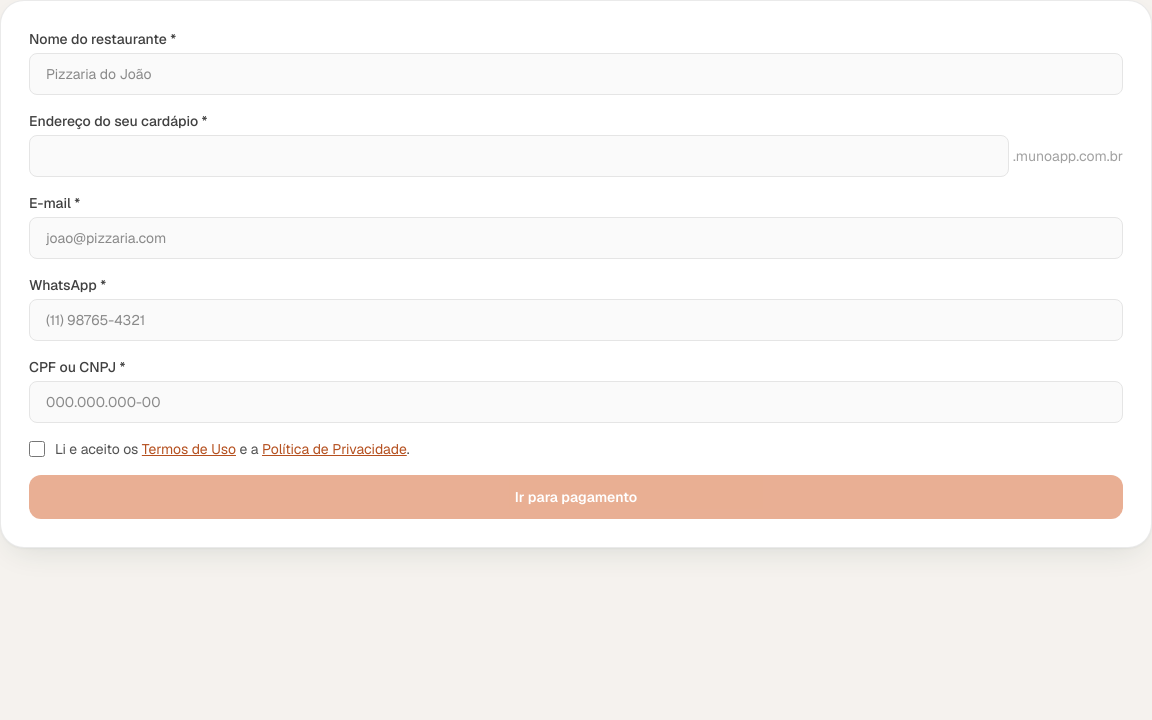
Scenario: FormularioAssinatura › deixa tentar de novo depois de um erro da API
Type "Pizzaria do Ze" into the field labelled "Nome do restaurante *".
click(576, 74); type("Pizzaria do Ze")  # box [29,53,1123,95]
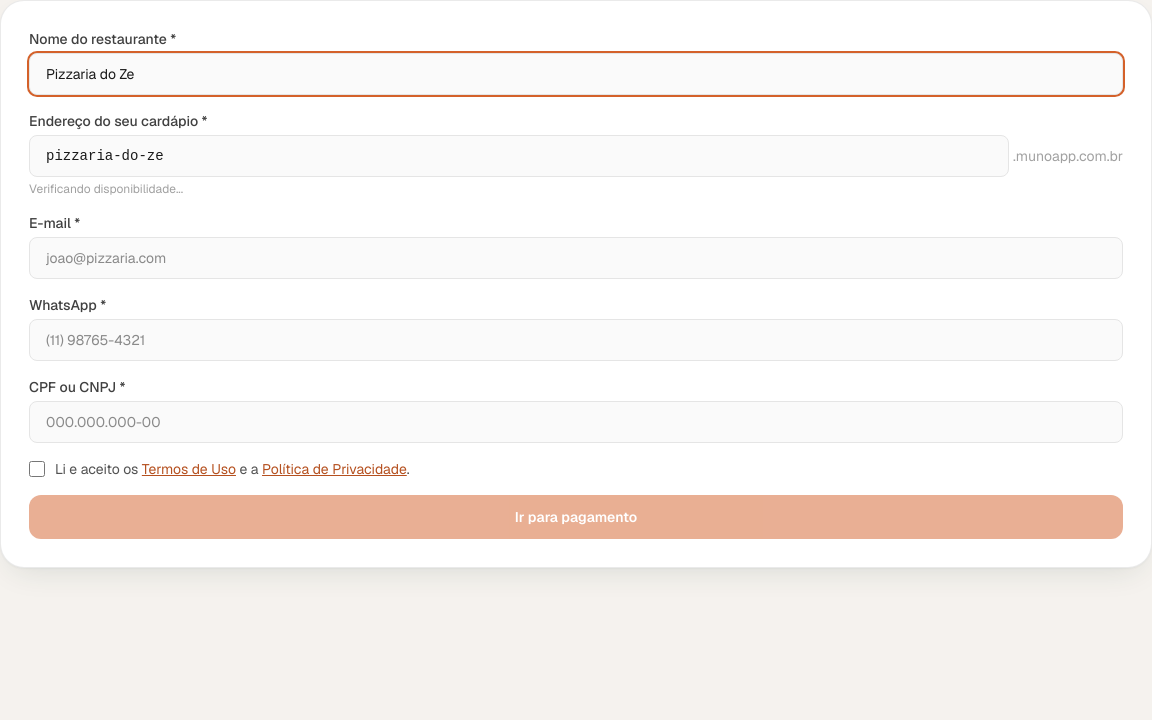
Type "dono@pizzaria.com" into the field labelled "E-mail *".
click(576, 258); type("dono@pizzaria.com")  # box [29,237,1123,279]
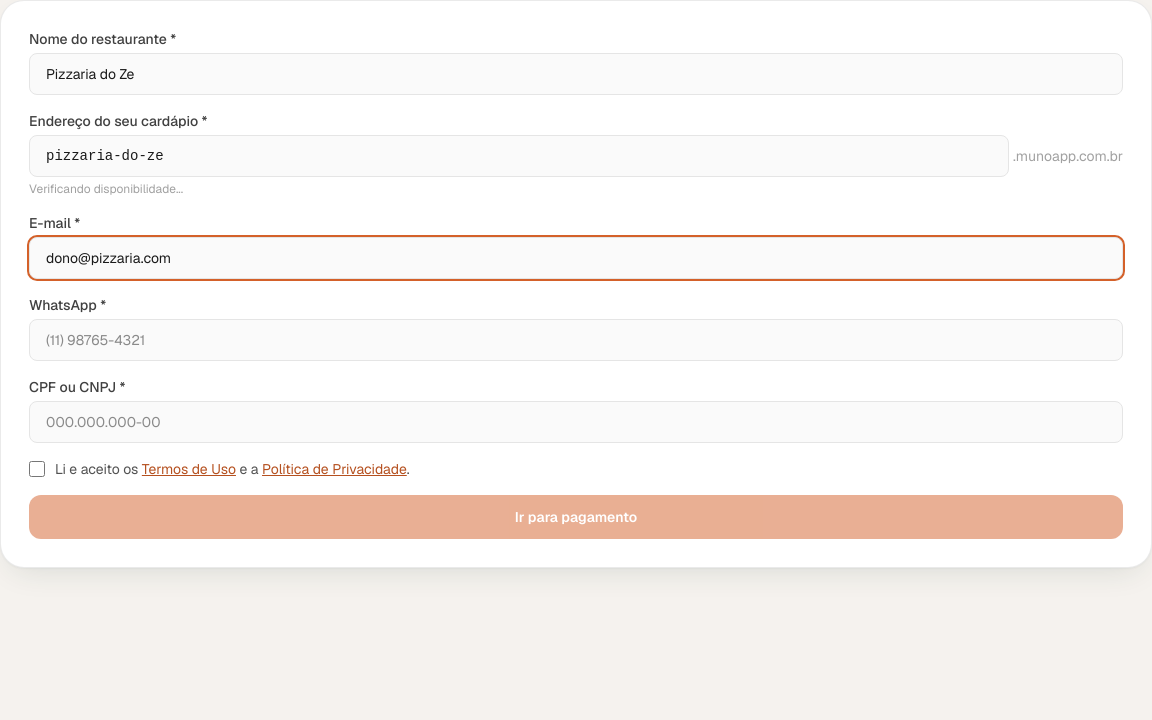
Type "11987654321" into the field labelled "WhatsApp *".
click(576, 340); type("11987654321")  # box [29,319,1123,361]
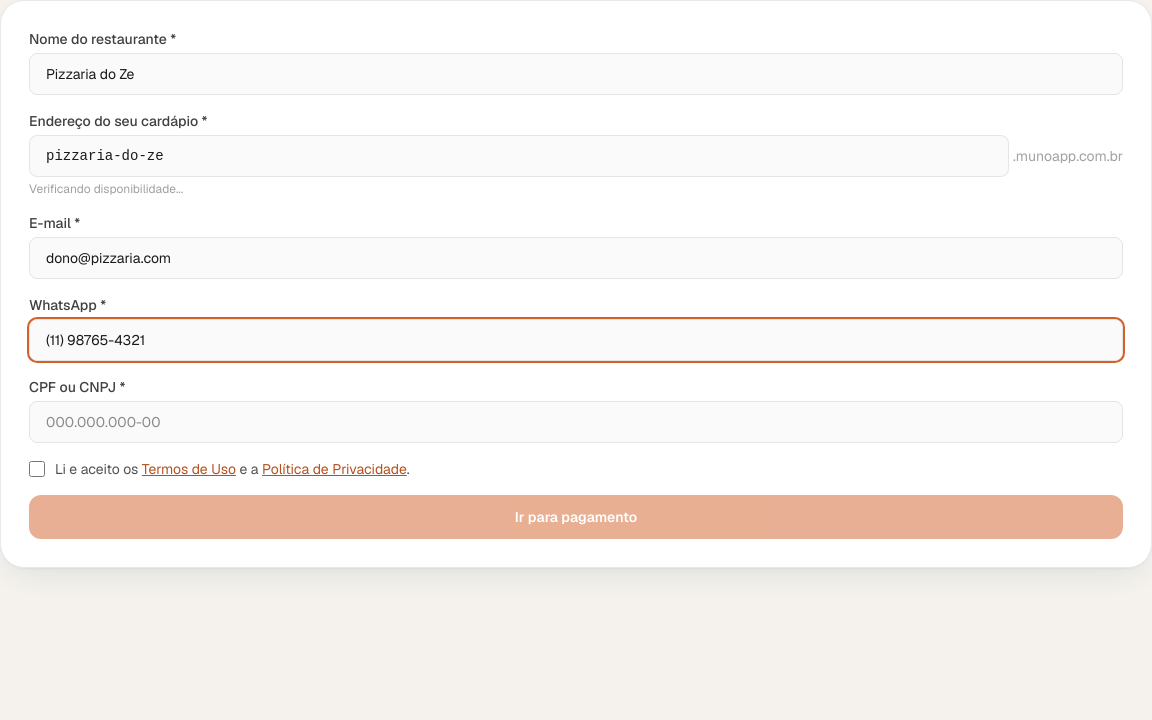
Type "24971563792" into the field labelled "CPF ou CNPJ *".
click(576, 422); type("24971563792")  # box [29,401,1123,443]
Wait 500 ms
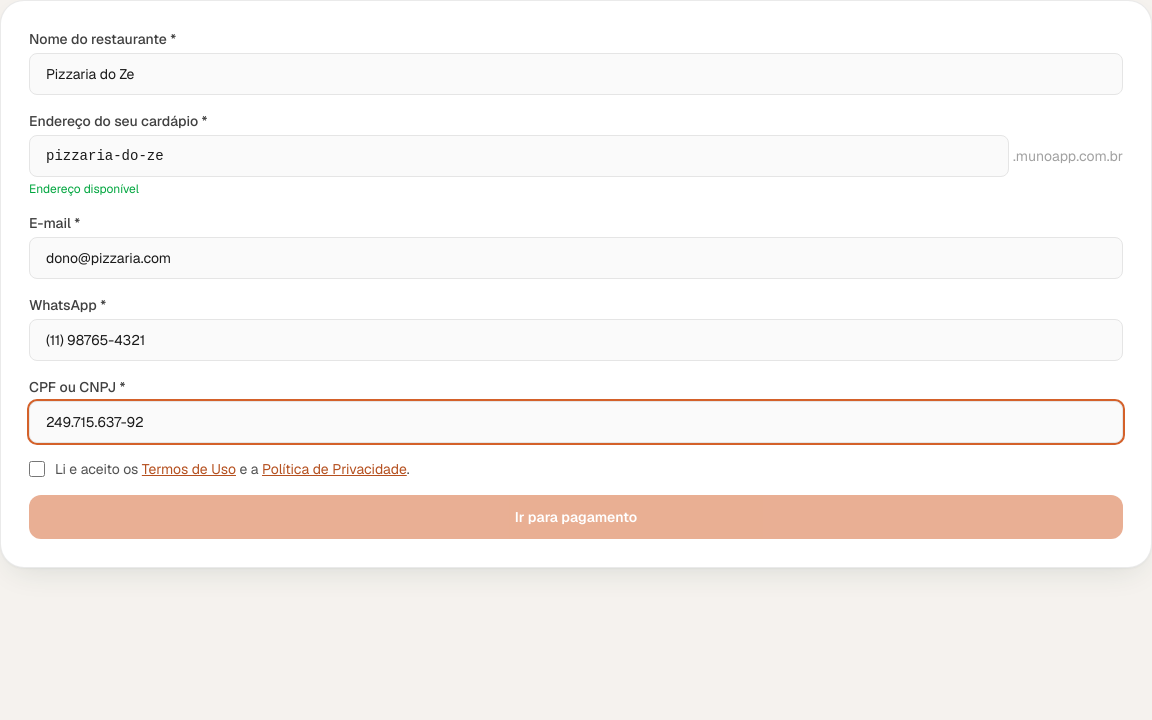
Check: the text "Endereço disponível" is shown, box [29,181,139,197]
Click the checkbox labelled "Li e aceito os Termos de Uso e a Política de Privacidade .".
click(37, 469)  # box [29,461,45,477]
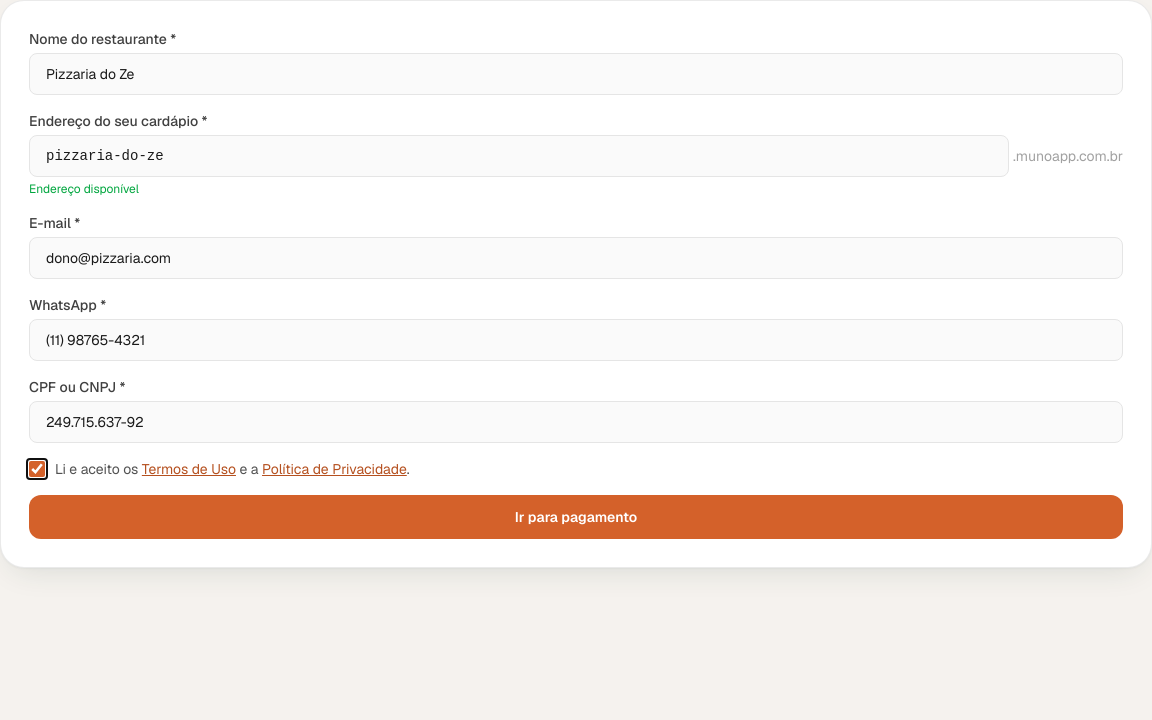
Click the button "Ir para pagamento".
click(576, 517)  # box [29,495,1123,539]
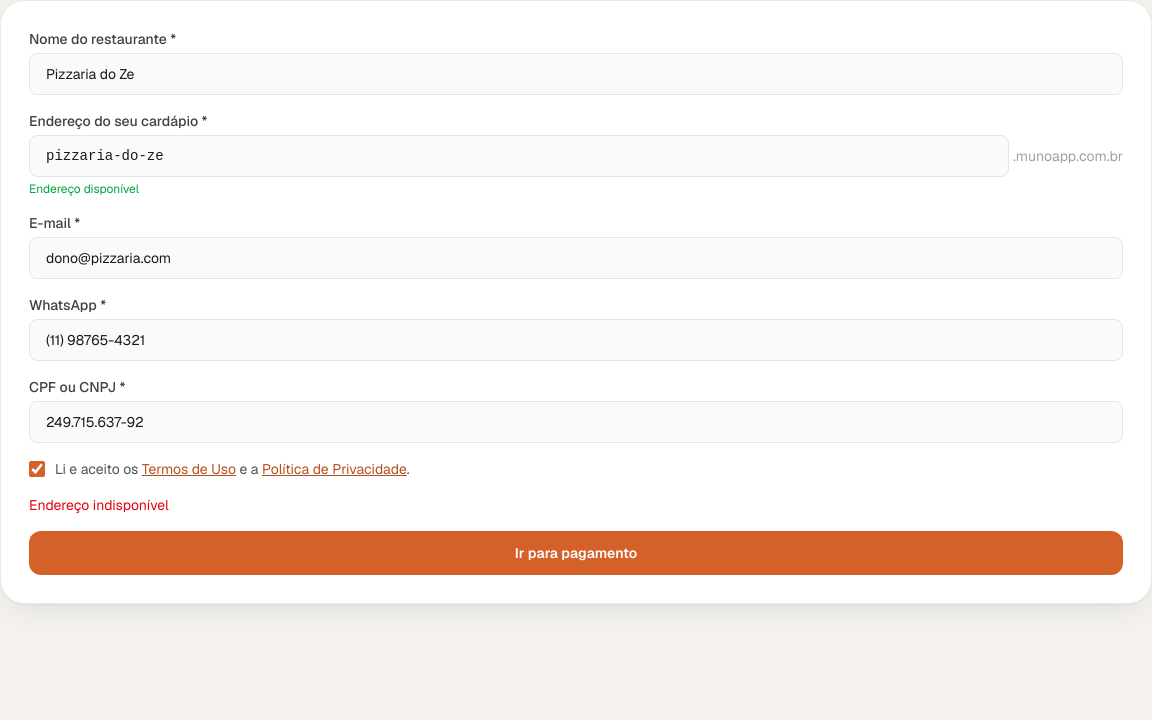
Check: the button "Ir para pagamento" is enabled, box [29,531,1123,575]
Check: the text "Endereço indisponível" is shown, box [29,496,169,514]
